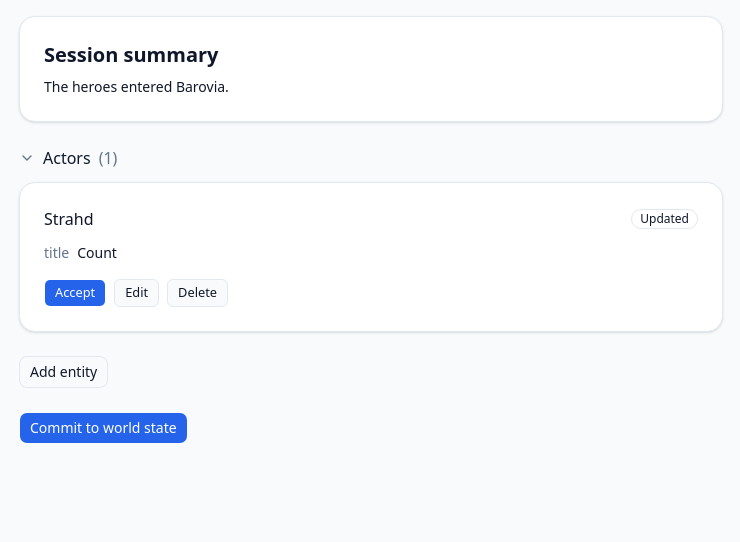
DiffReviewPage › treats a 422 commit error as a UI bug: logs it and shows a generic banner
Click the button "Commit to world state". click: (103, 428)
box: x1=19 y1=412 x2=188 y2=444
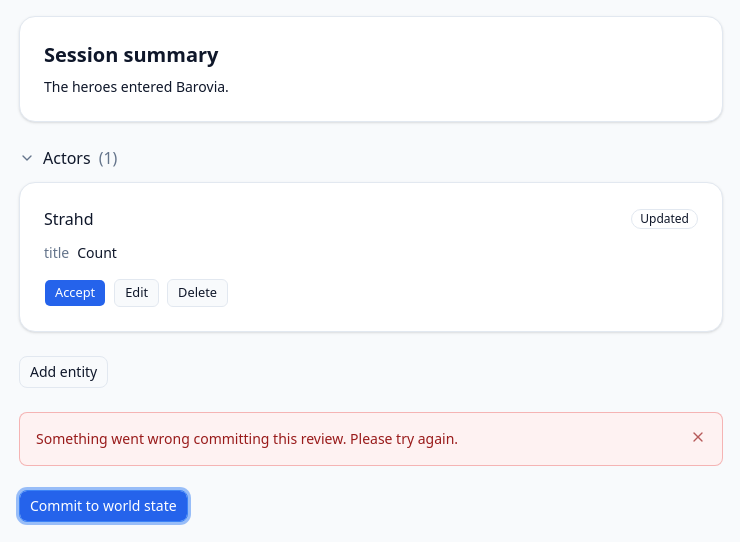
expect the text "Something went wrong committing this review" is shown: met, box x1=36 y1=429 x2=458 y2=448
